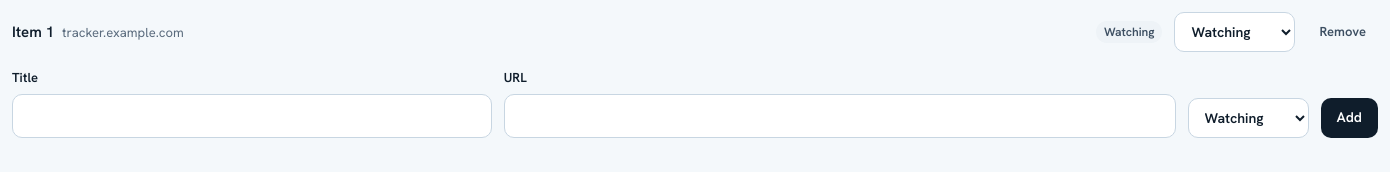
RoadmapLinks › removes a row
Click the button with aria-label "Remove Item 1".
click(1343, 32)  # box [1308,16,1378,48]
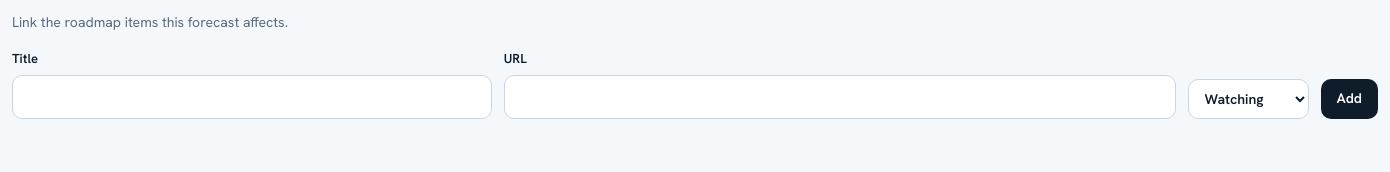
expect the link "Item 1" is gone: met
